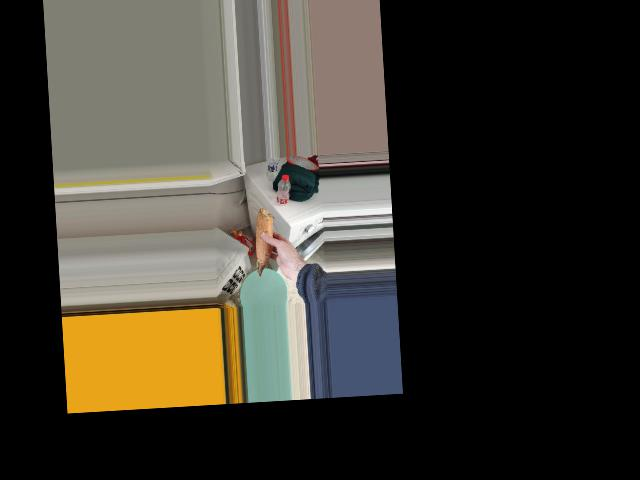sweet_potato: (248, 210, 276, 276)
